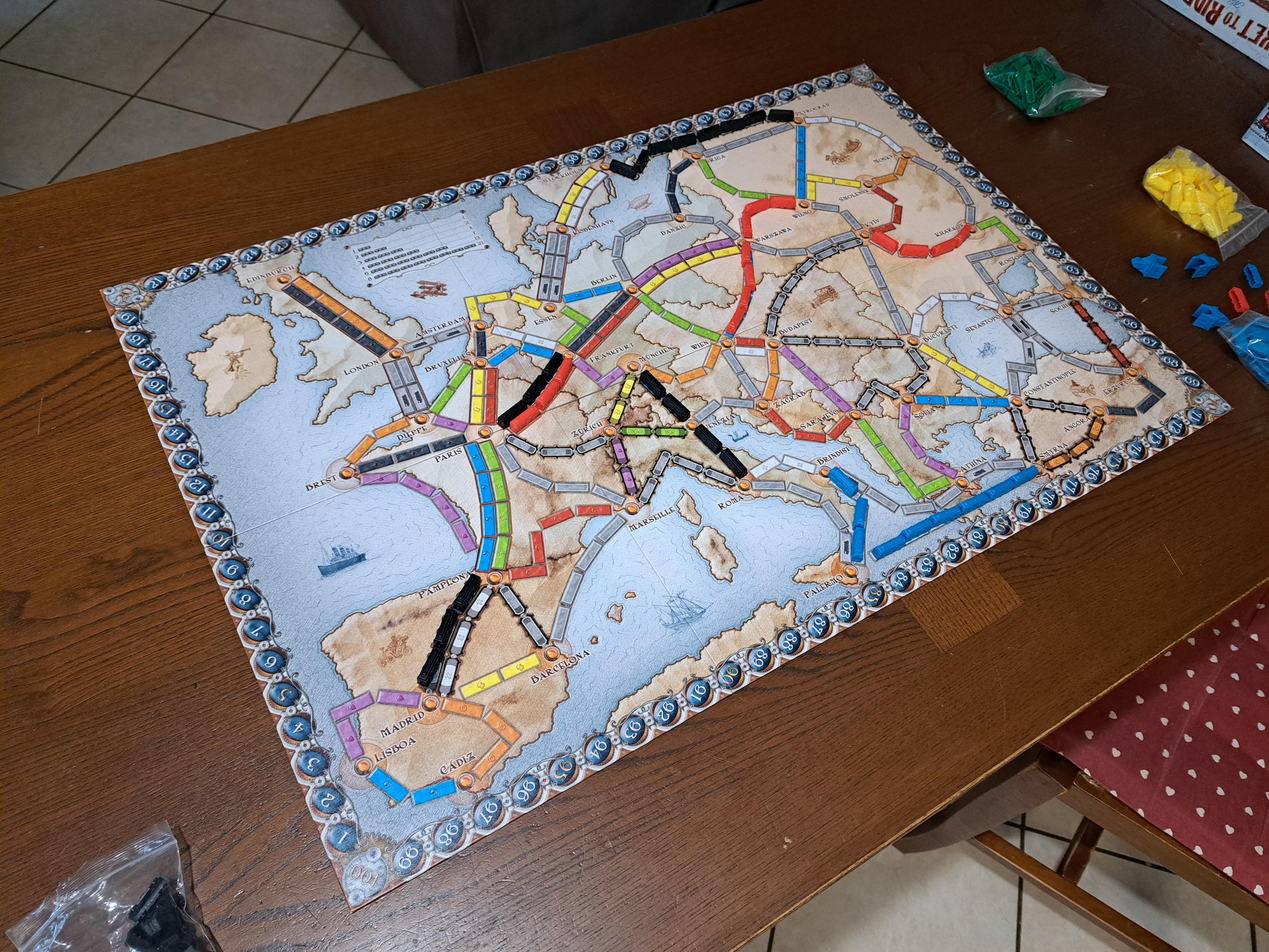corner_bl: (335, 843, 398, 909)
corner_br: (1191, 386, 1234, 421)
corner_tl: (100, 280, 147, 311)
corner_tr: (848, 63, 879, 84)
